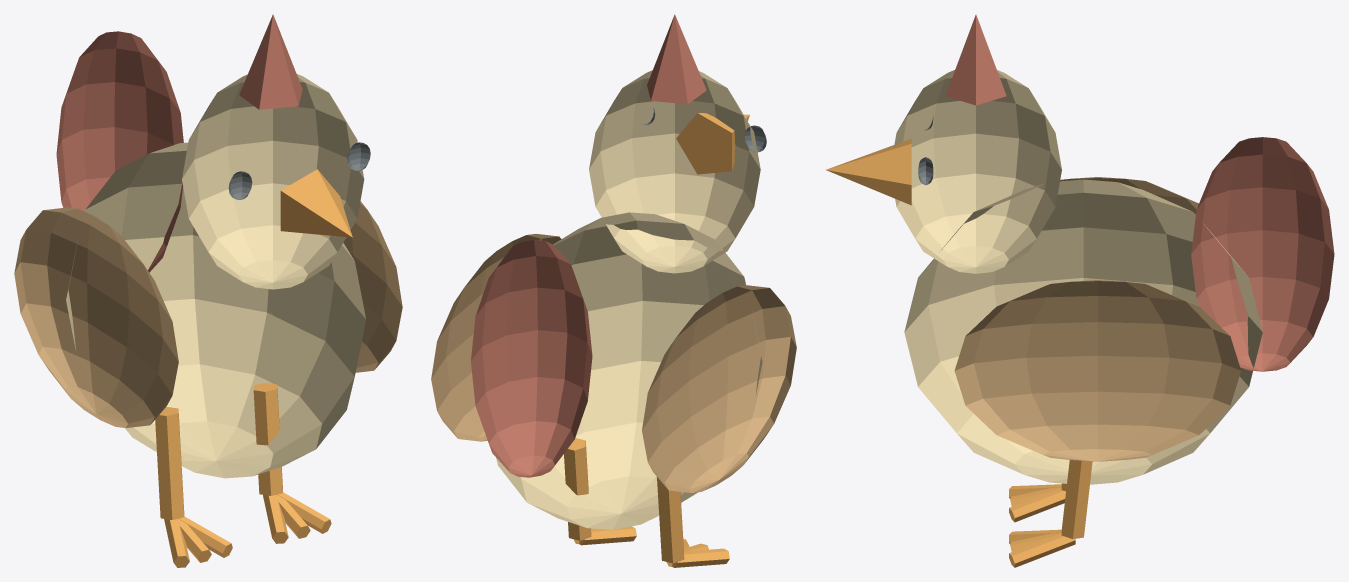
The model's file is harvest-hearth-foraging-hen__61.glb.
3 renders of one model, left to right at view 1: azimuth 30°, elevation 25°; view 2: azimuth 150°, elevation 25°; view 3: azimuth 270°, elevation 25°, orthographic. The views are drawn at different scales.
Visible parts, largest first — view 1: harvest-hearth-hen; view 2: harvest-hearth-hen; view 3: harvest-hearth-hen.
Part boxes in pixels (x1,y1,x2,y2): harvest-hearth-hen: (14, 14, 402, 567); harvest-hearth-hen: (431, 14, 796, 567); harvest-hearth-hen: (826, 14, 1334, 567).
Bounding box in the file's own units: 0.44 × 0.7993 × 0.71.
